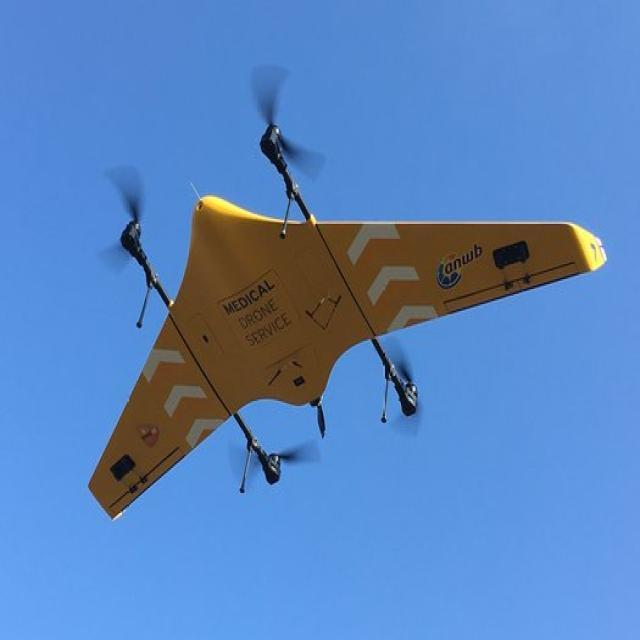iha: (87, 117, 605, 518)
